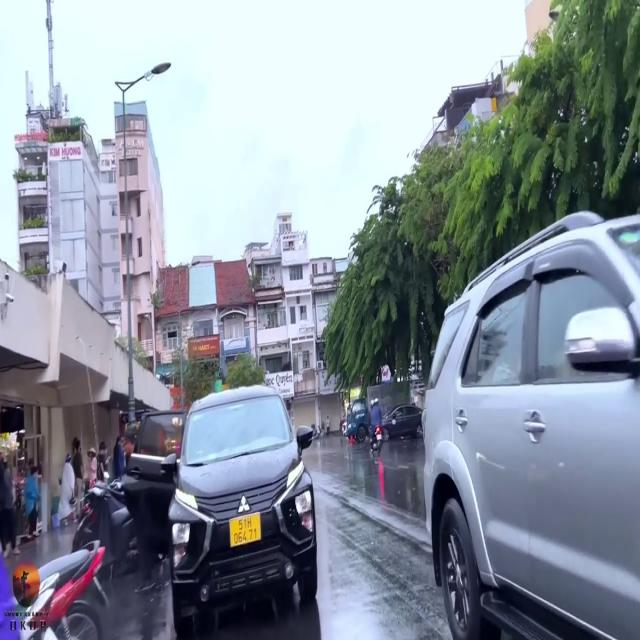bien_vang: (225, 508, 265, 550)
